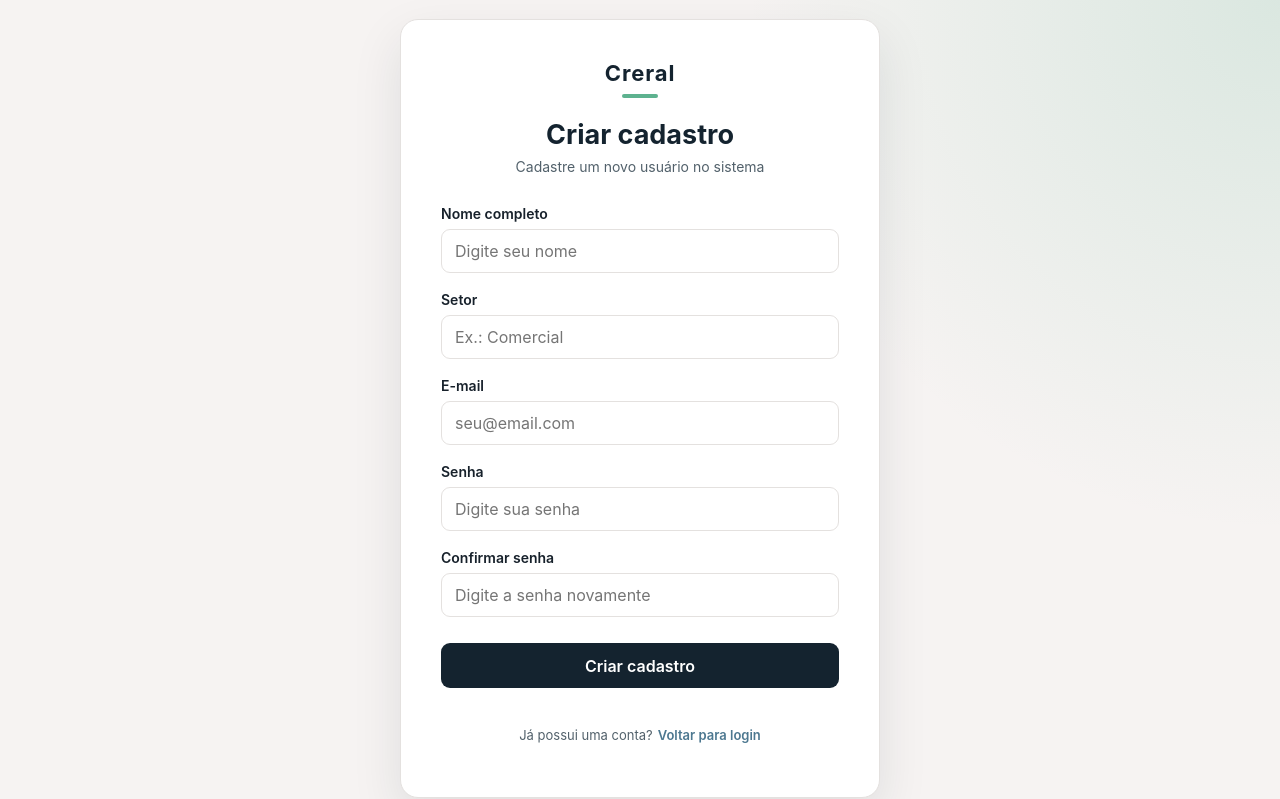
Test: AUT-13: rede explica cadastro incerto sem retry ou entrada
Type " Ana " into the field labelled "Nome completo" at [640, 251], box [441,229,839,273]
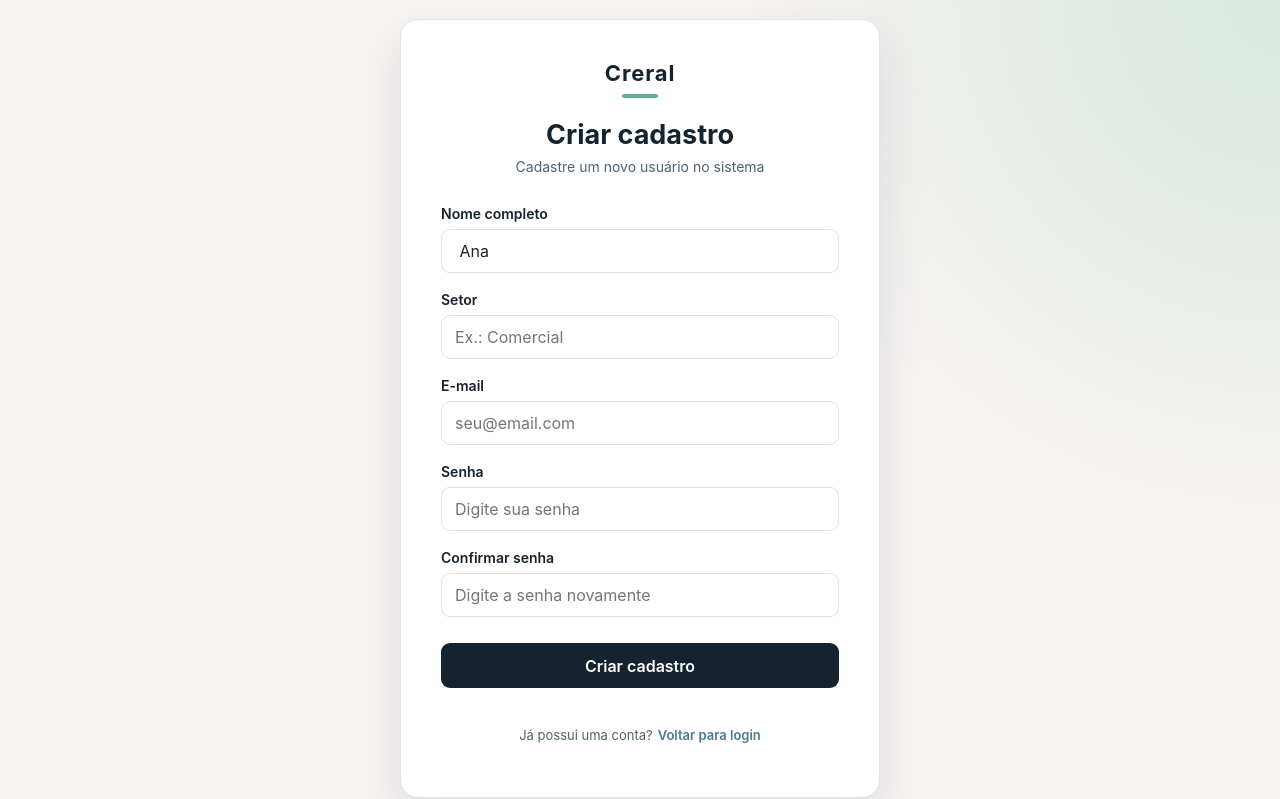
Type " Campo " into the field labelled "Setor" at [640, 337], box [441,315,839,359]
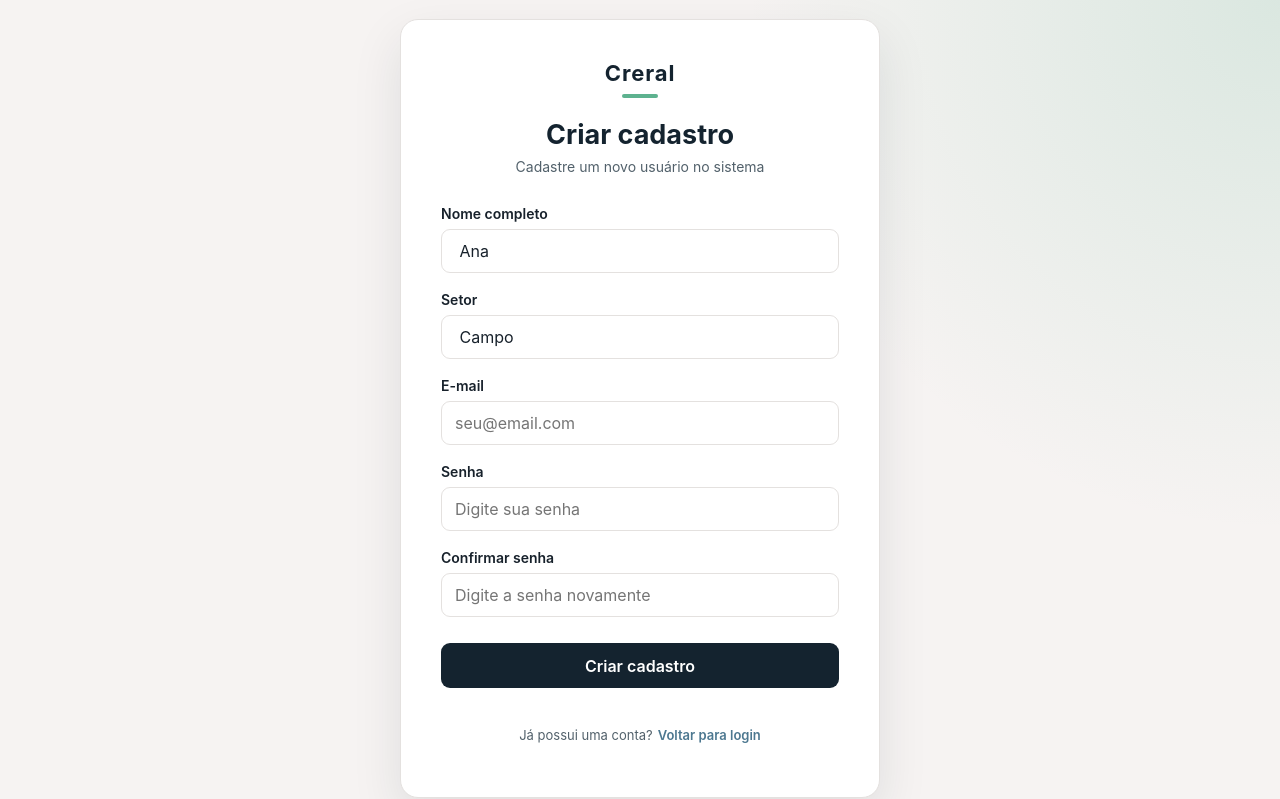
Type "ana@example.test" into the field labelled "E-mail" at [640, 423], box [441,401,839,445]
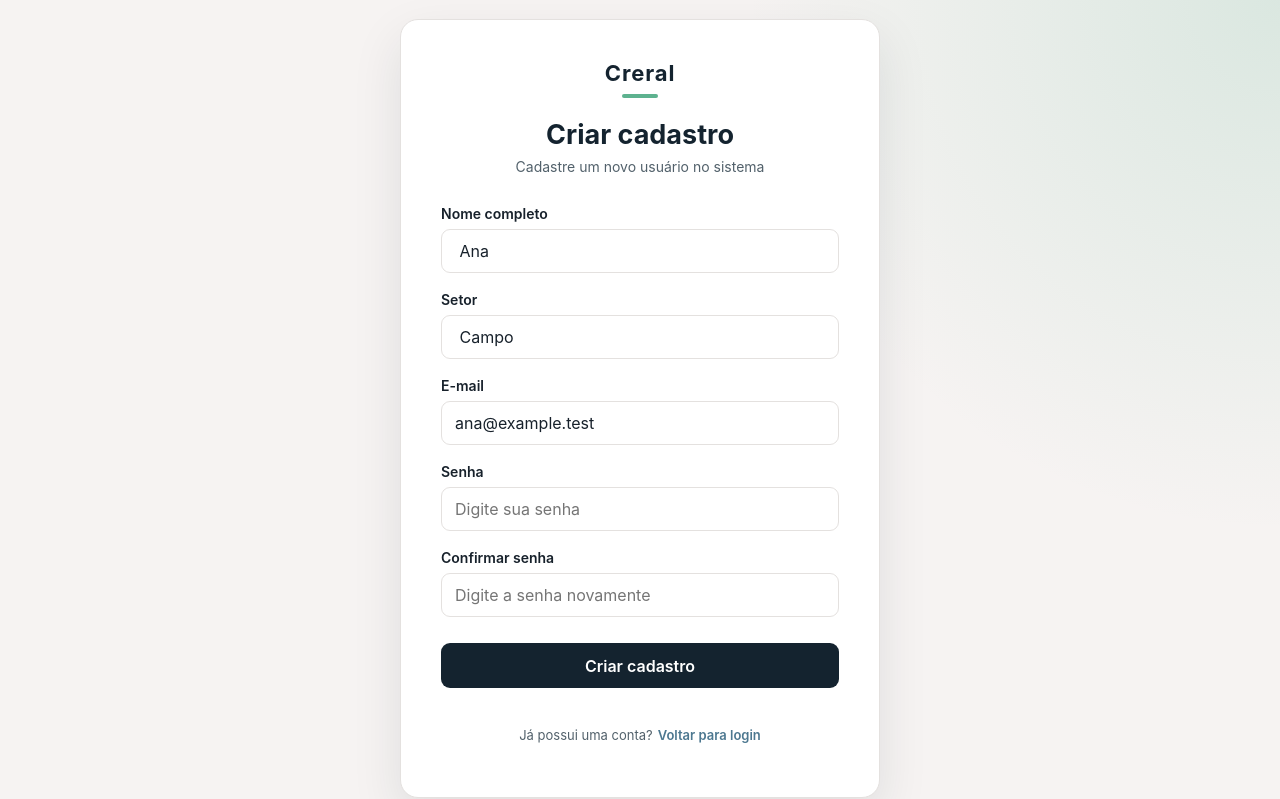
Type " 1234 " into the password field labelled "Senha" at [640, 509], box [441,487,839,531]
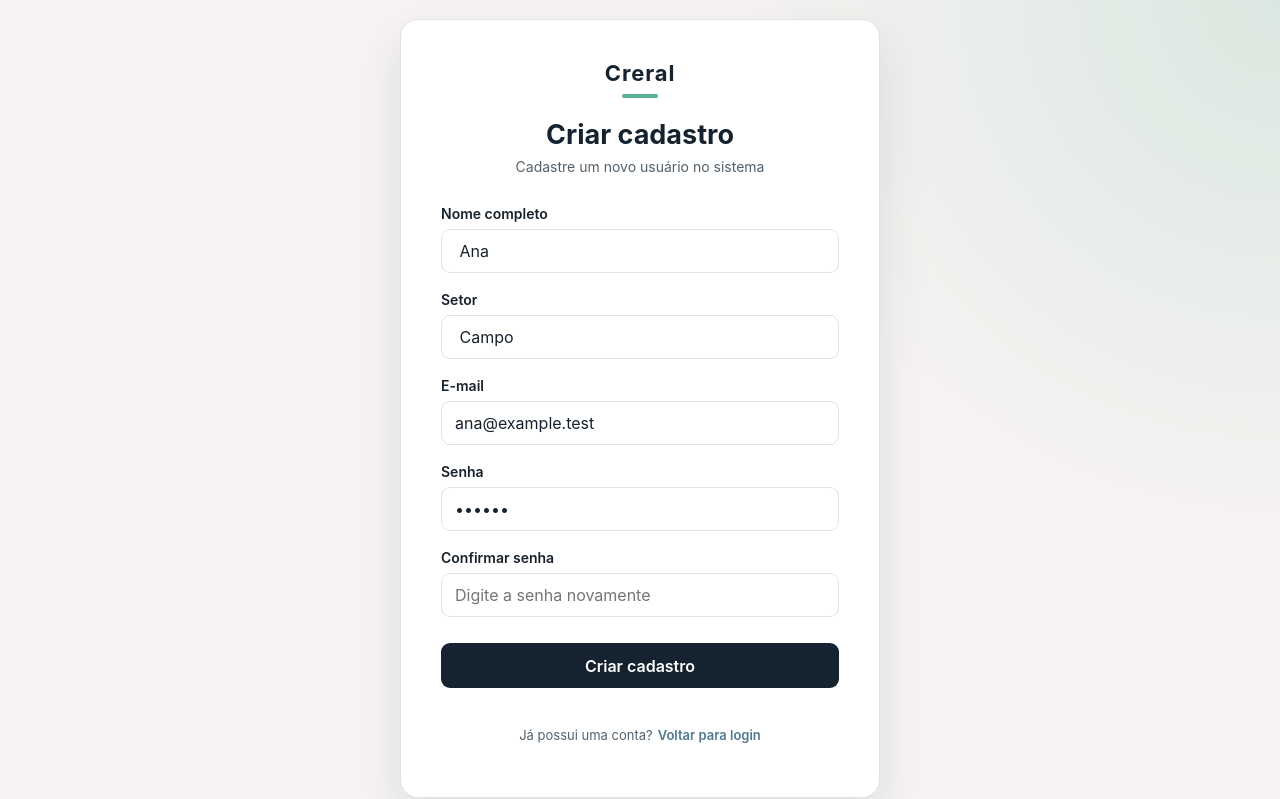
Type " 1234 " into the password field labelled "Confirmar senha" at [640, 595], box [441,573,839,617]
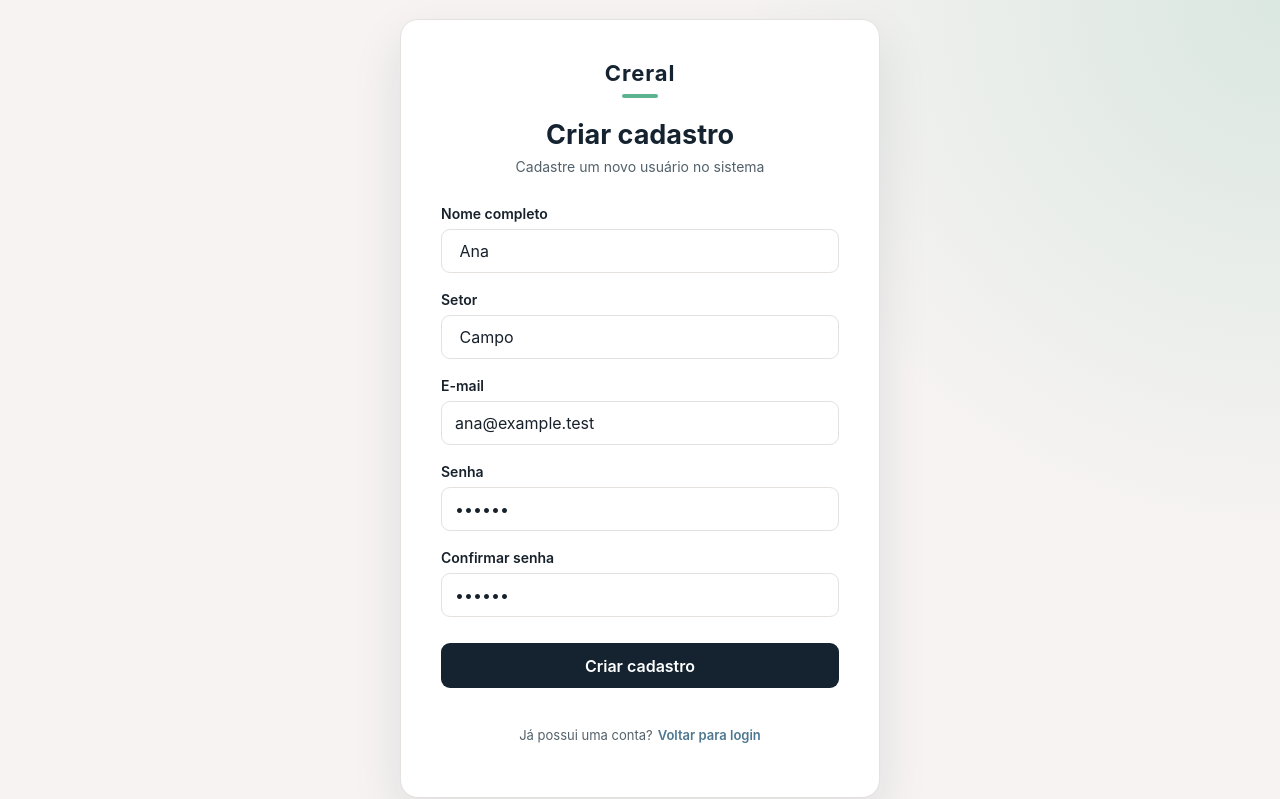
Click the button "Criar cadastro" at [640, 666], box [441,643,839,688]
(page scrolled)
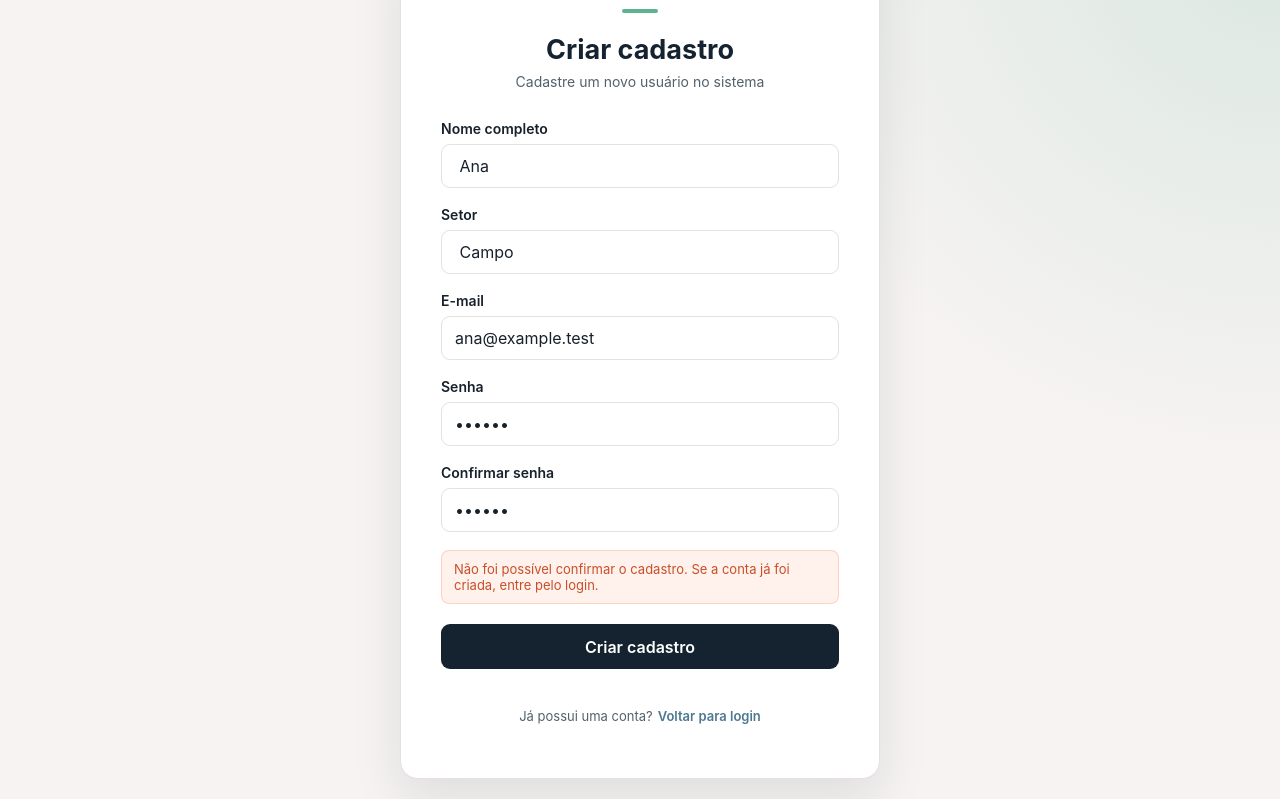
Expected: the field labelled "Nome completo" is enabled, [441,144,839,188]
Now the message shows "Não foi possível confirmar o cadastro. Se a conta já foi criada, entre pelo login.", box [454,561,790,593]
